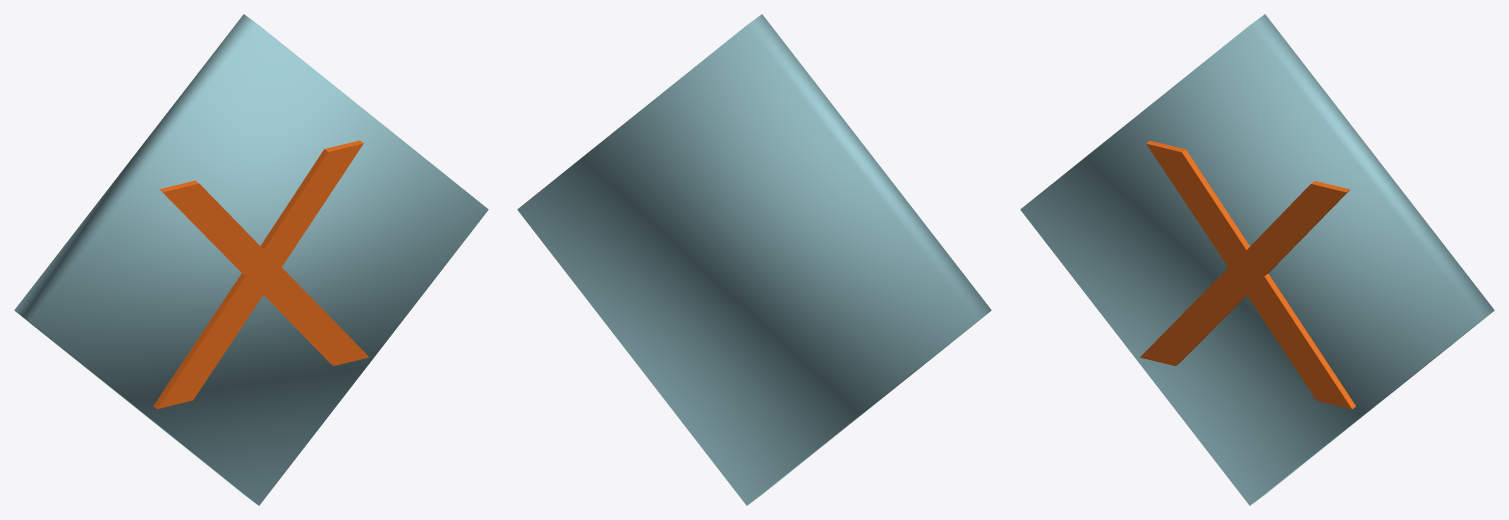
The model's file is XSign.glb.
The picture shows the model from 3 angles, left to right: view 1: azimuth 30°, elevation 25°; view 2: azimuth 150°, elevation 25°; view 3: azimuth 330°, elevation 25°; orthographic projection.
Visible parts, largest first — view 1: Cube, Text.001; view 2: Cube; view 3: Cube, Text.001.
Part boxes in pixels (x1,y1,x2,y2): Cube: (14,14,488,505); Text.001: (153,140,369,409); Cube: (517,14,991,505); Cube: (1020,14,1494,505); Text.001: (1140,140,1355,409).
Bounding box in the file's own units: 2.83 × 2.83 × 0.2068.
